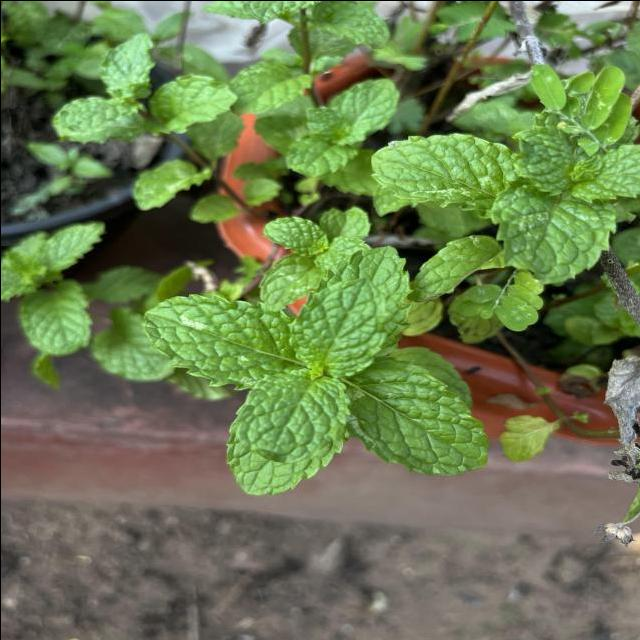Mentha spicata: (347, 354, 489, 476), (141, 290, 295, 390), (224, 372, 348, 496), (368, 131, 516, 218), (288, 275, 390, 378)
